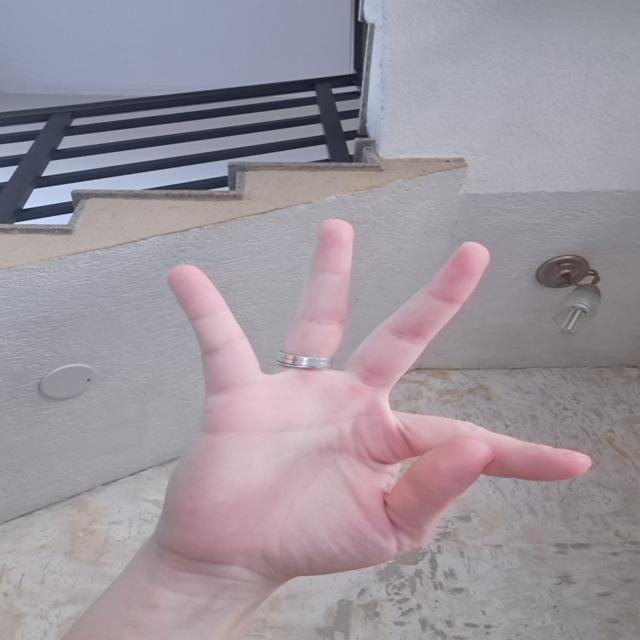T: (146, 208, 599, 580)
